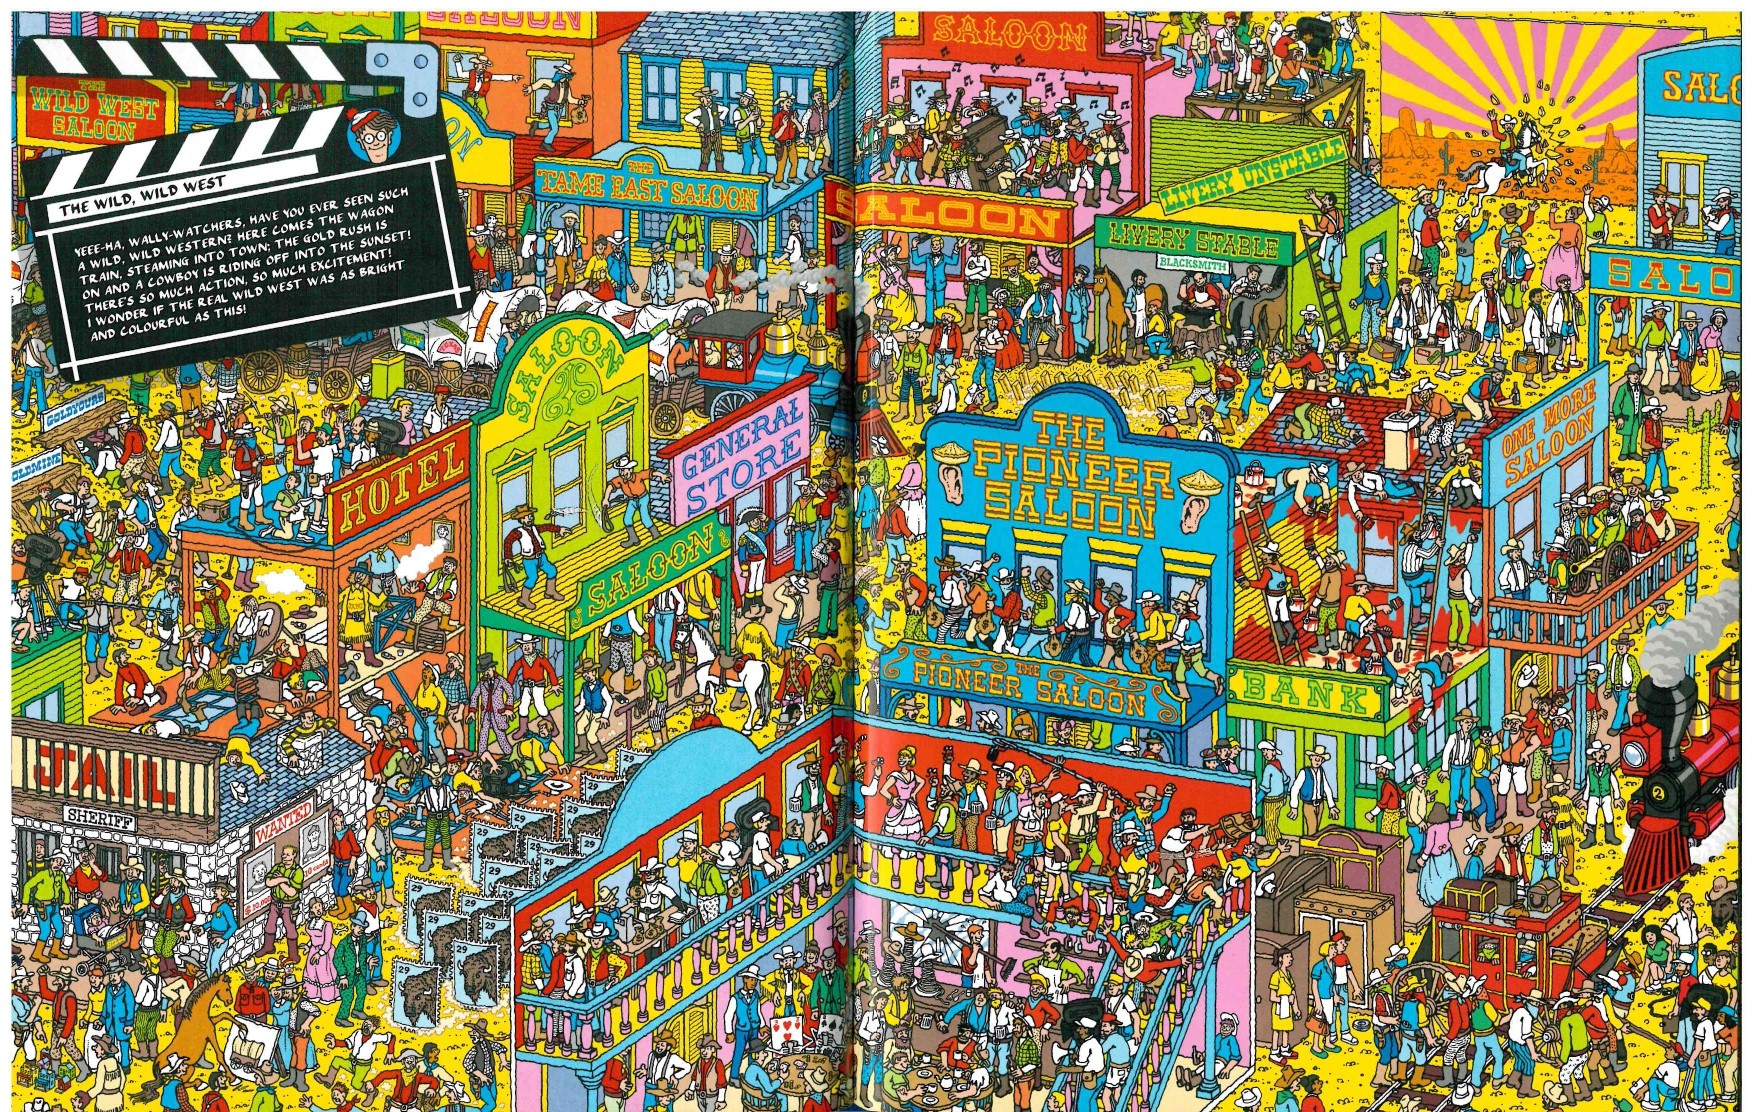waldos: (344, 106, 399, 166), (1607, 461, 1626, 497)
